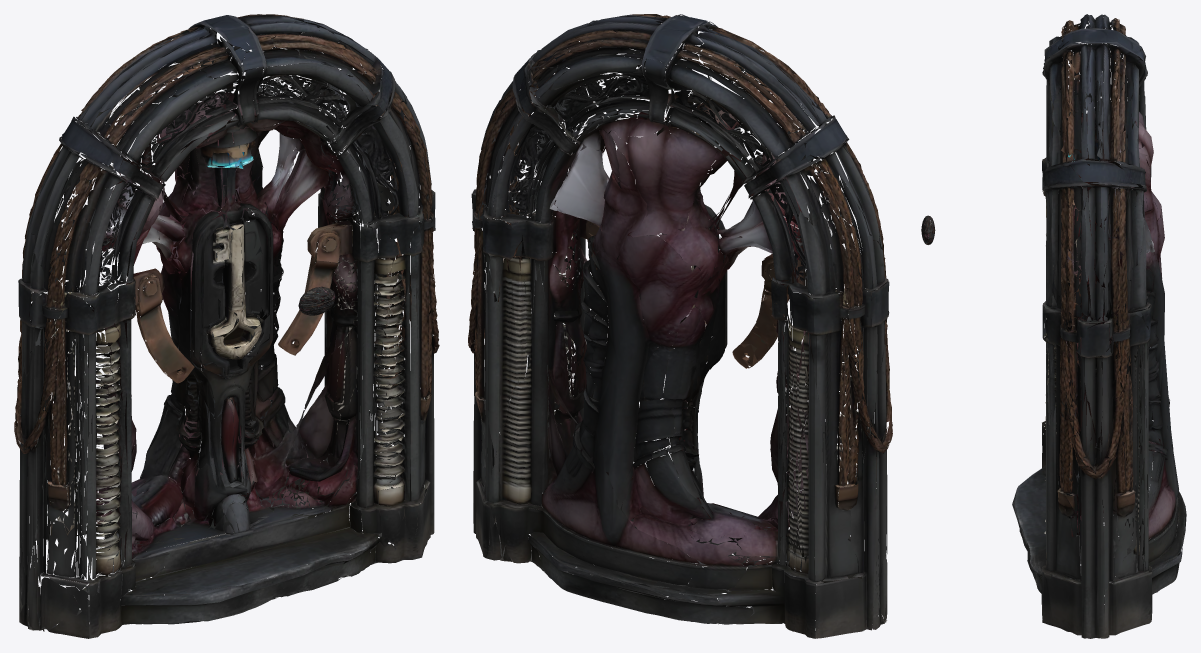
Rendered from meridian_grid_covenant_seal.glb.
3 views of the same model, side by side, from view 1: azimuth 30°, elevation 25°; view 2: azimuth 150°, elevation 25°; view 3: azimuth 270°, elevation 25° (orthographic). The views are drawn at different scales.
Visible parts, largest first — view 1: node_0, HB_PULSE_00; view 2: node_0; view 3: node_0.
Part boxes in pixels (x1=…): node_0: x1=14, y1=14, x2=439, y2=638; HB_PULSE_00: x1=298, y1=286, x2=335, y2=315; node_0: x1=468, y1=14, x2=892, y2=638; node_0: x1=1012, y1=14, x2=1186, y2=638.
Size of the model in its own units: 0.7438 by 0.9541 by 0.447.
1 material, 1 textured.
